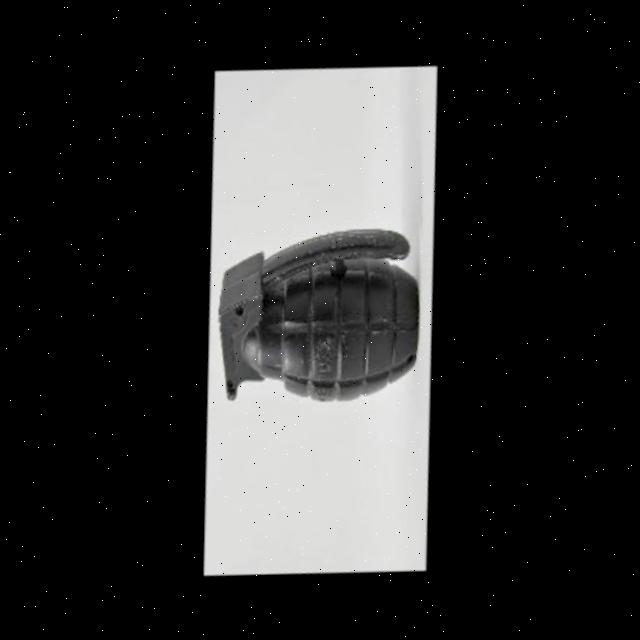grenade: (182, 197, 456, 455)
